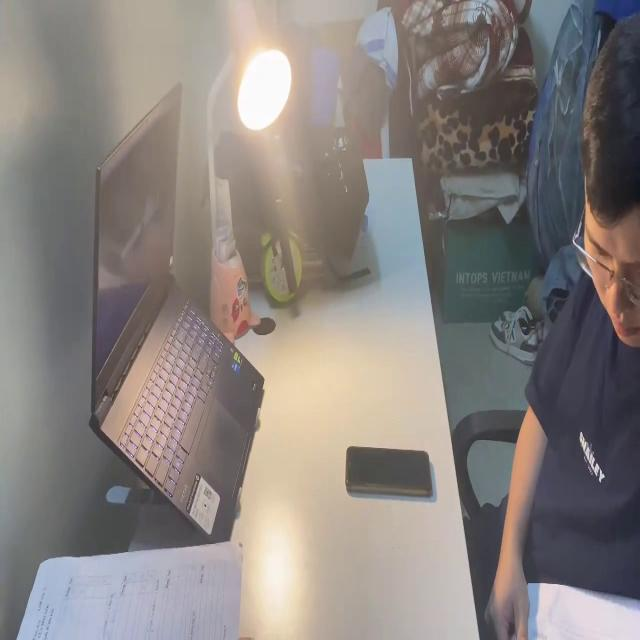book: (14, 535, 241, 640), (515, 577, 639, 640)
laptop: (86, 78, 264, 541)
phone: (344, 442, 435, 503)
student: (486, 1, 640, 640)
